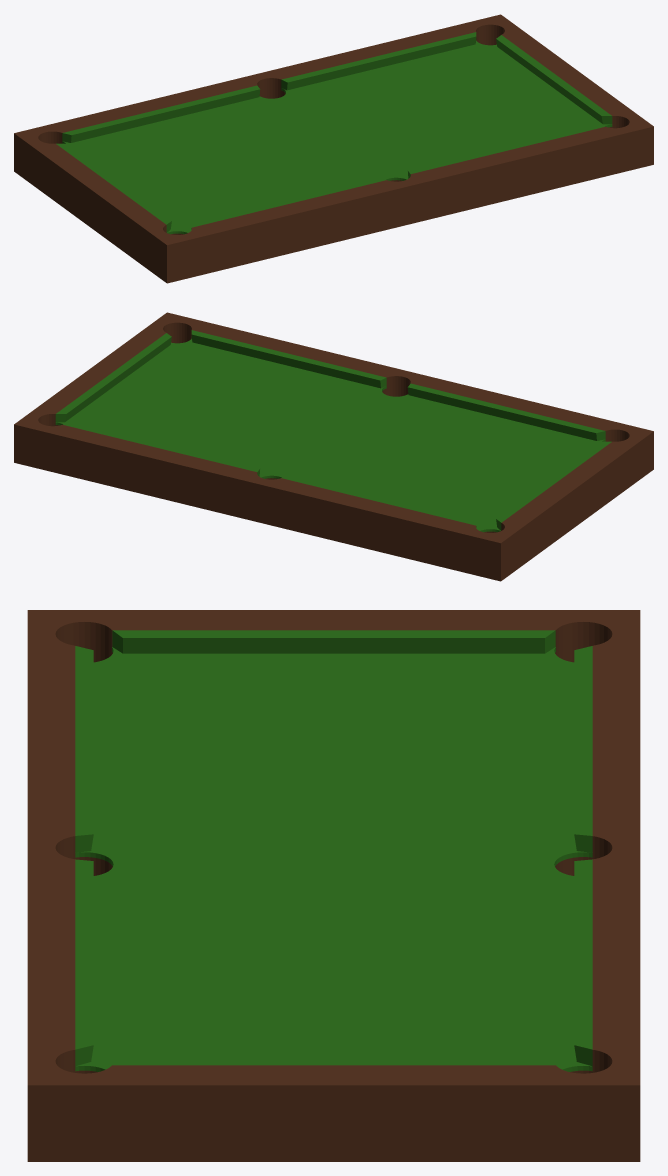
File: table.glb
The picture shows the model from 3 angles, top to bottom: view 1: azimuth 30°, elevation 25°; view 2: azimuth 150°, elevation 25°; view 3: azimuth 270°, elevation 25°; orthographic projection. The views are drawn at different scales.
Visible parts, largest first — view 1: canvas, frame, wall-3, wall-2, wall-1, wall-6, wall-5, wall-4; view 2: canvas, frame, wall-5, wall-6, wall-1, wall-2, wall-3, wall-4; view 3: canvas, frame, wall-4, wall-1, wall-3, wall-5, wall-2, wall-6.
Boxes of the visible parts, x1=… form: canvas: x1=62, y1=40, x2=612, y2=234; frame: x1=14, y1=14, x2=653, y2=283; wall-3: x1=62, y1=85, x2=260, y2=142; wall-2: x1=281, y1=32, x2=476, y2=90; wall-1: x1=496, y1=35, x2=612, y2=124; wall-6: x1=407, y1=124, x2=604, y2=178; wall-5: x1=191, y1=177, x2=386, y2=227; wall-4: x1=56, y1=143, x2=171, y2=232; canvas: x1=55, y1=338, x2=605, y2=532; frame: x1=14, y1=312, x2=653, y2=581; wall-5: x1=407, y1=383, x2=605, y2=440; wall-6: x1=191, y1=330, x2=386, y2=388; wall-1: x1=55, y1=333, x2=171, y2=422; wall-2: x1=63, y1=422, x2=260, y2=476; wall-3: x1=281, y1=475, x2=476, y2=525; wall-4: x1=496, y1=441, x2=611, y2=530; canvas: x1=75, y1=647, x2=592, y2=1071; frame: x1=27, y1=610, x2=640, y2=1161; wall-4: x1=112, y1=630, x2=555, y2=653; wall-1: x1=112, y1=1057, x2=555, y2=1065; wall-3: x1=574, y1=646, x2=592, y2=852; wall-5: x1=75, y1=646, x2=93, y2=852; wall-2: x1=574, y1=859, x2=592, y2=1066; wall-6: x1=75, y1=859, x2=93, y2=1066.
Size of the model in its own units: 4.26 by 0.32 by 2.32.
